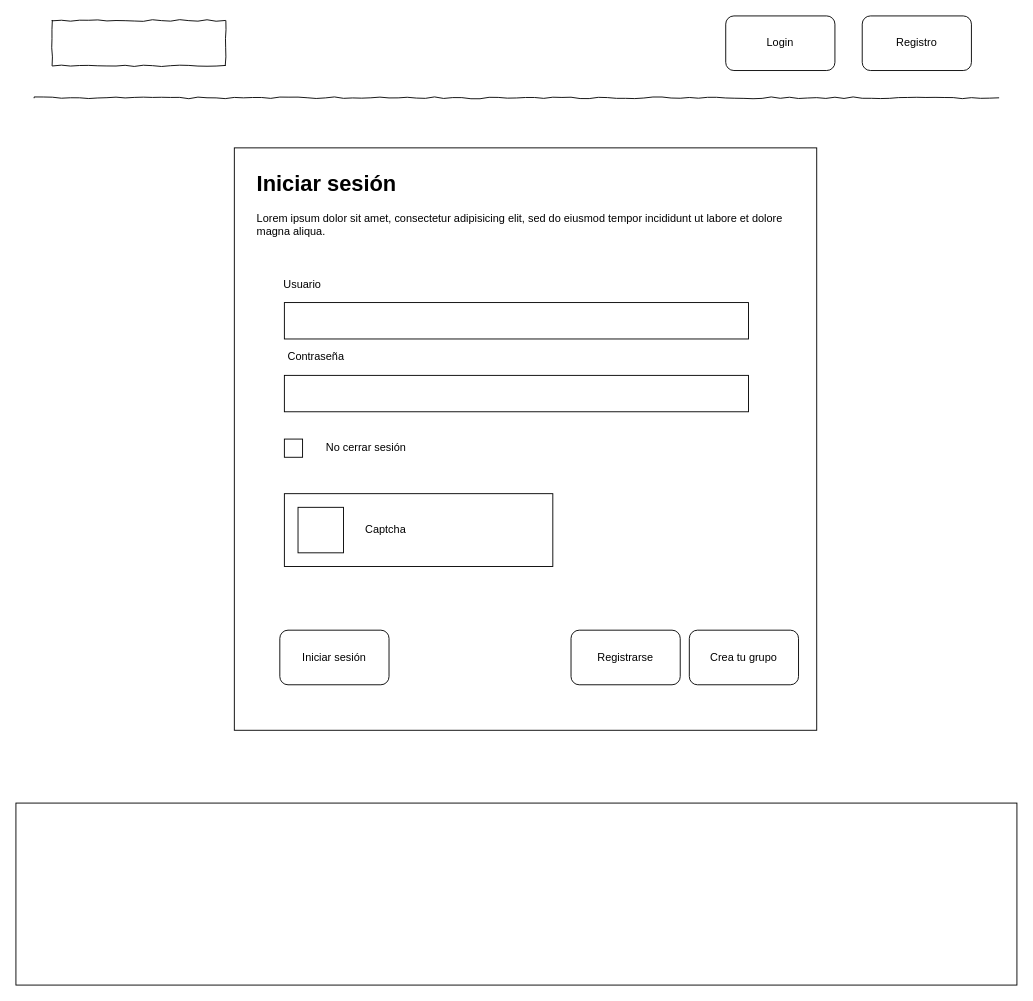
Image size: 1033x1001. Some labels were removed from this diagram. Here are the shapes that lost their labels. From the top down, the centre of each, then its label:
the point at 138,43: LOGO
the point at 516,893: Footer
